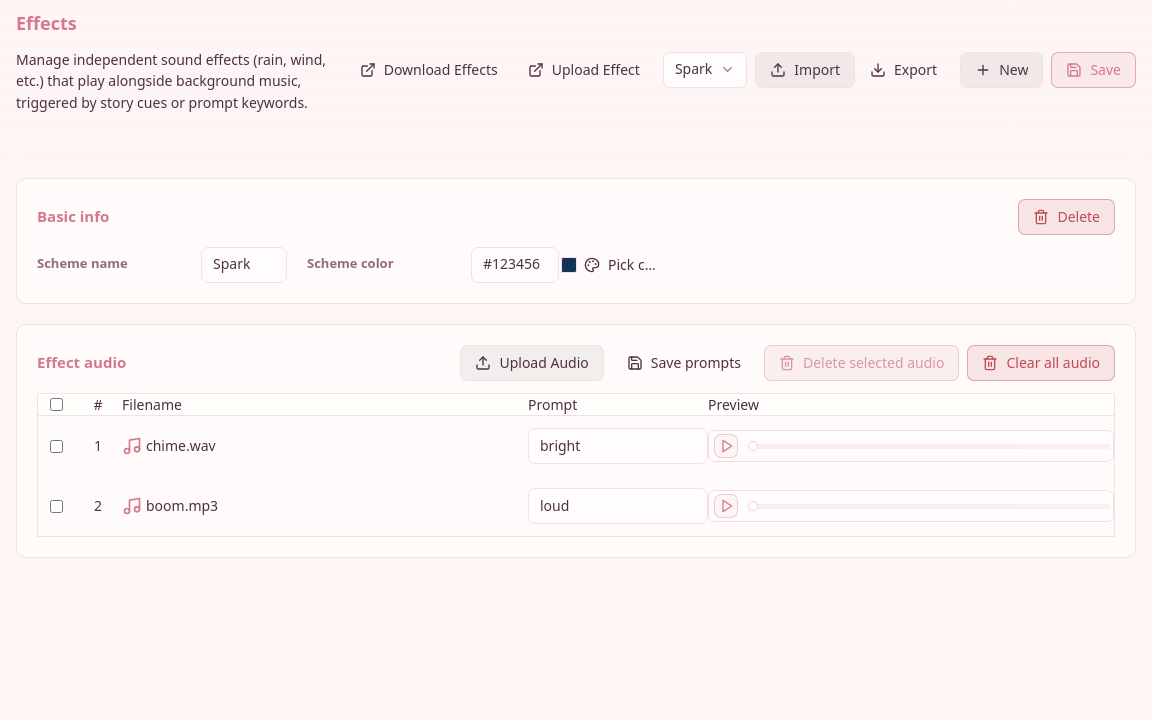
Test: EffectManagerPage › saves audio prompts and confirms selected and bulk audio deletion
Step 1. Replace the text in the field showing "bright" in the row of "chime.wav" with "sharp" → (618, 446), box top-left (528, 428), bottom-right (708, 464)
Step 2. Click the button "Save prompts" → click(684, 363), box top-left (612, 345), bottom-right (756, 381)
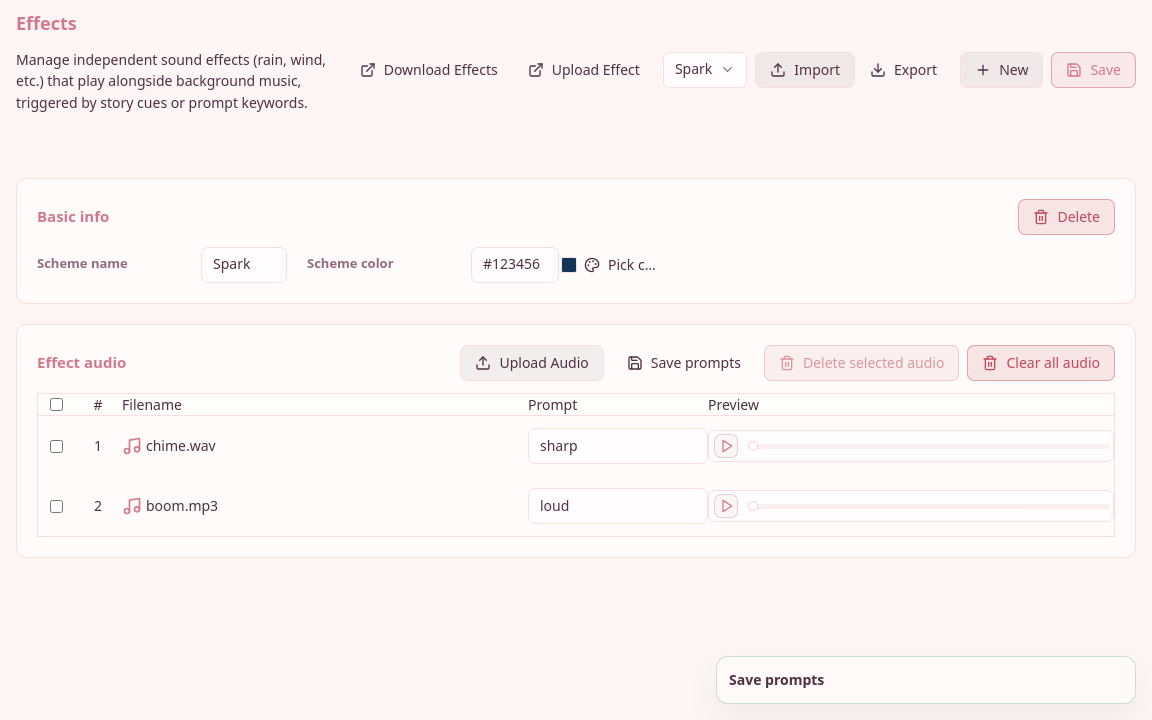
Step 3. Click the checkbox named "Select audio #1" → click(56, 446), box top-left (50, 440), bottom-right (63, 453)
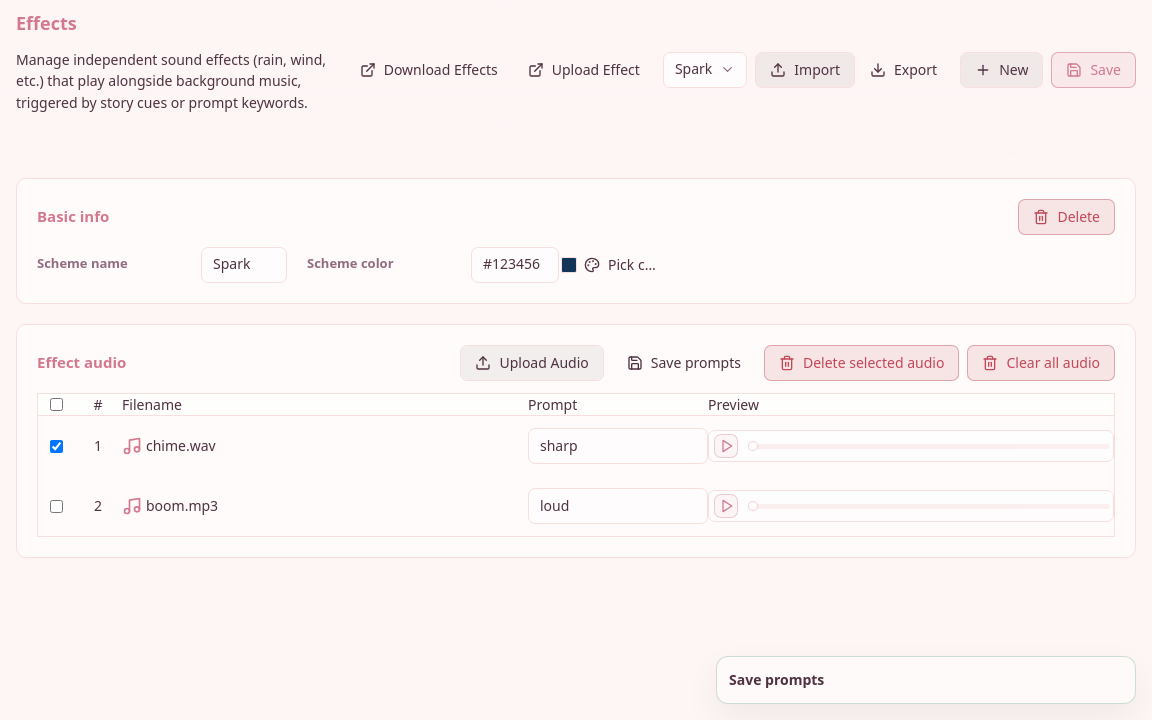
Step 4. Click the button "Delete selected audio" → click(862, 363), box top-left (764, 345), bottom-right (960, 381)
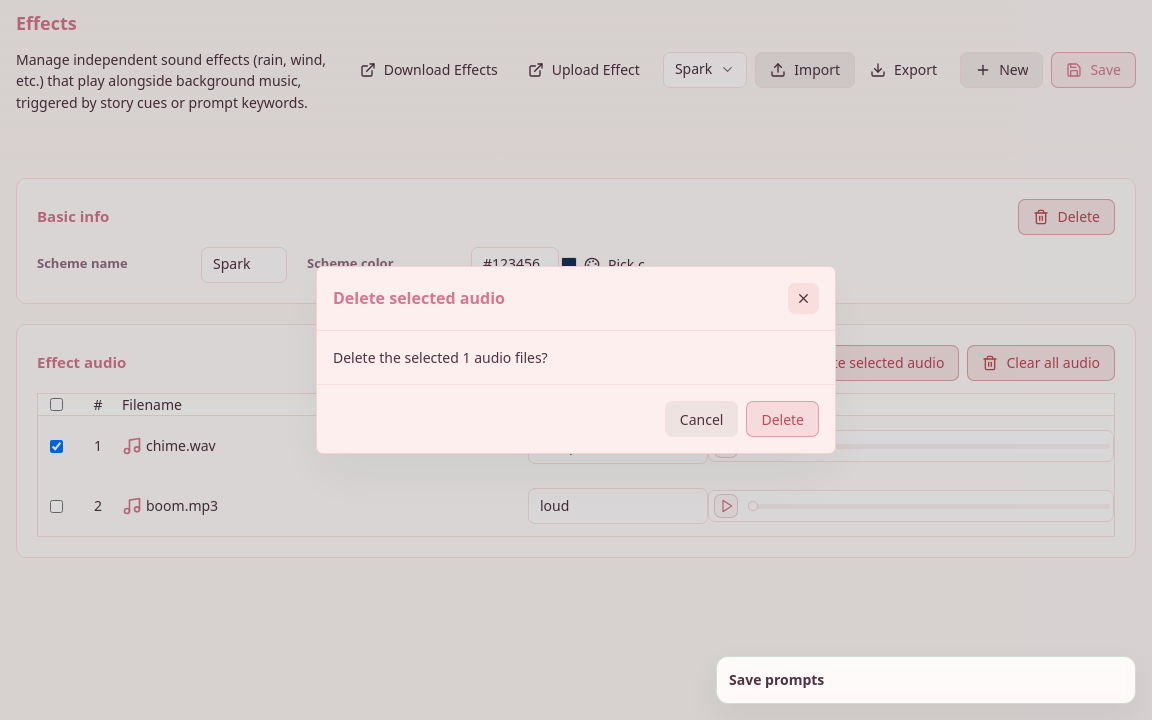
Step 5. Click the button "Delete" → click(783, 419), box top-left (746, 401), bottom-right (819, 437)
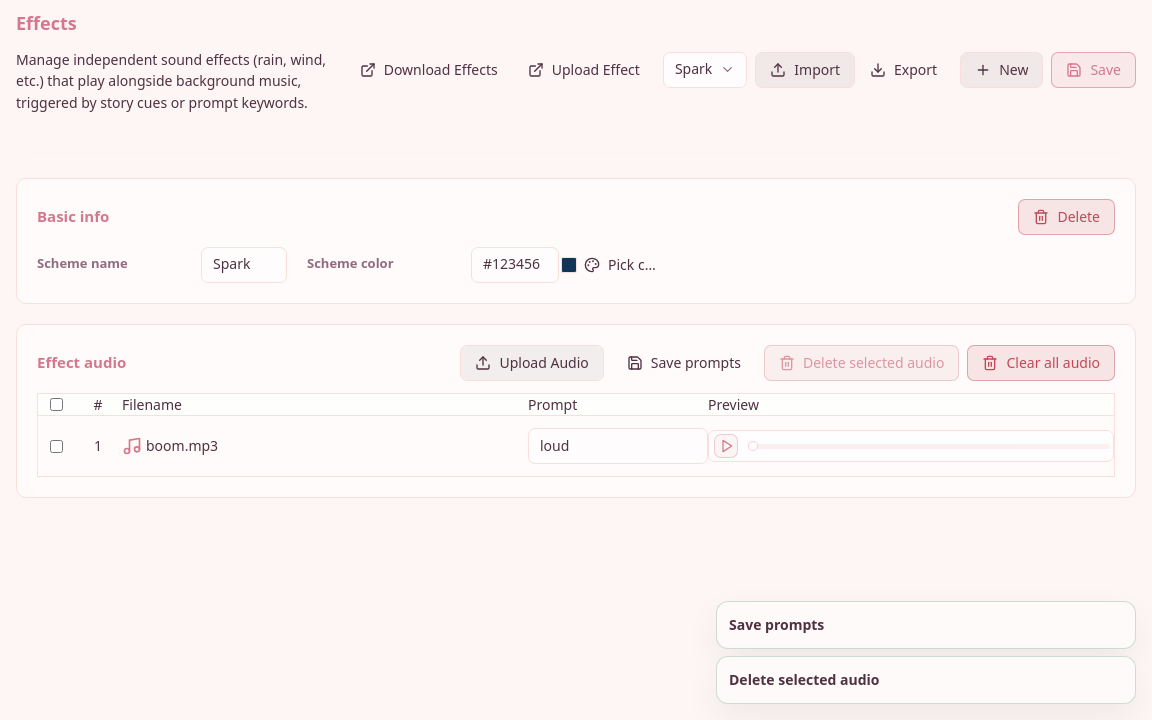
expect the text "chime.wav" is gone: met
Step 6. Click the button "Clear all audio" → click(1041, 363), box top-left (967, 345), bottom-right (1115, 381)
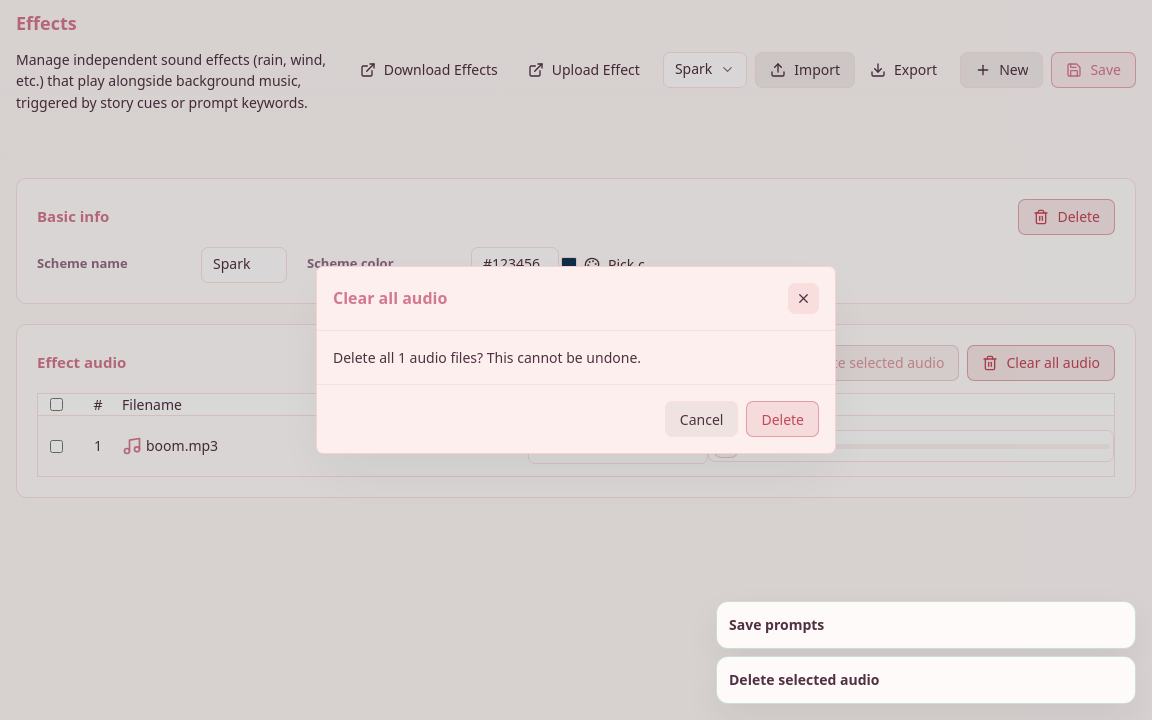
Step 7. Click the button "Delete" → click(783, 419), box top-left (746, 401), bottom-right (819, 437)
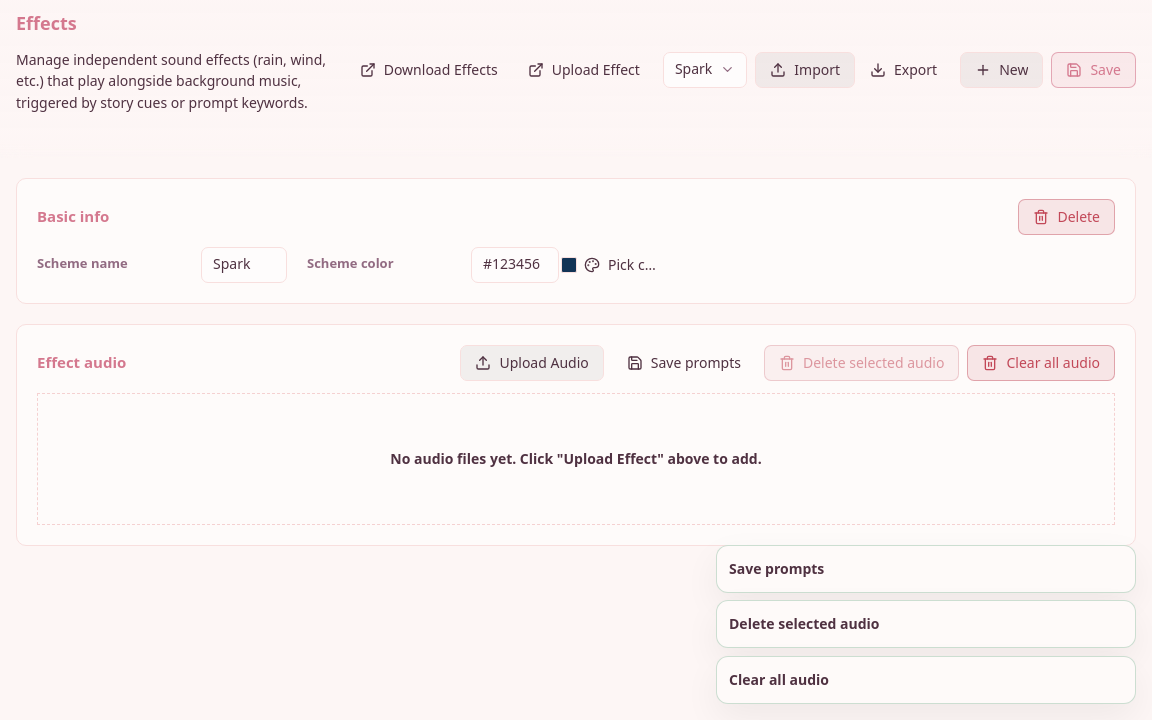
expect the text "No audio files yet. Click \"Upload Effect\" above to add." is shown: met, box top-left (390, 448), bottom-right (762, 469)
